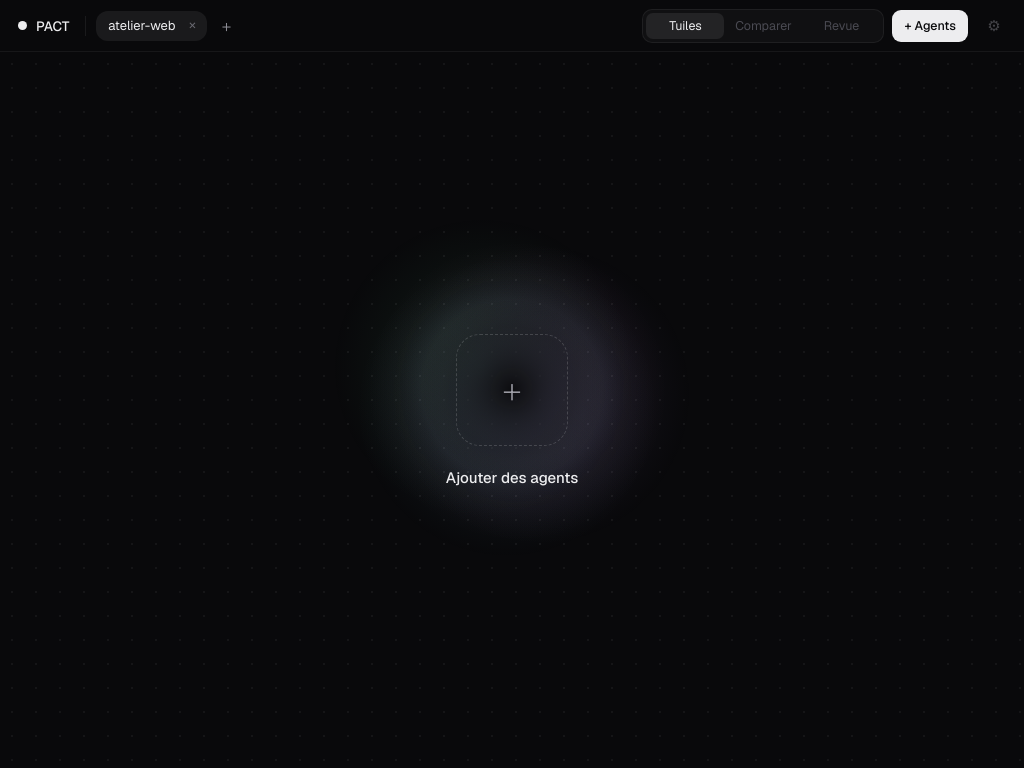
Test: App › shows the home screen on the home tab and the workspace on its tab
Click the button named "Nouvel onglet" at (226, 26), box [211, 10, 241, 40]
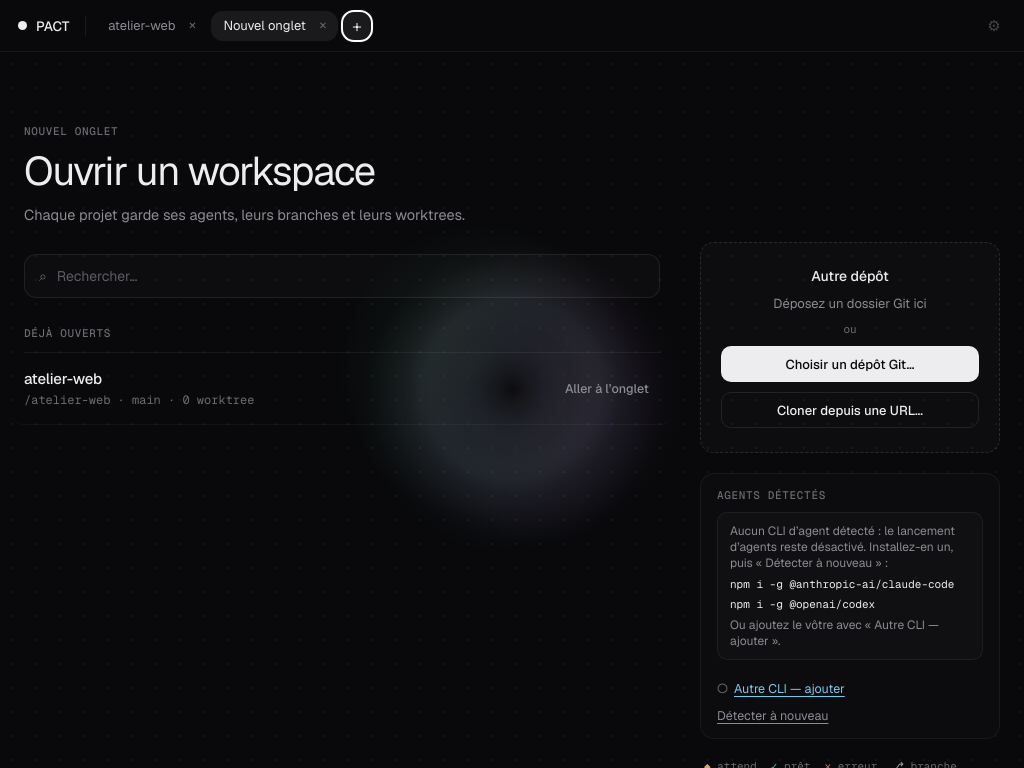
expect the heading "Ouvrir un workspace" is shown: met, box [24, 145, 375, 197]
